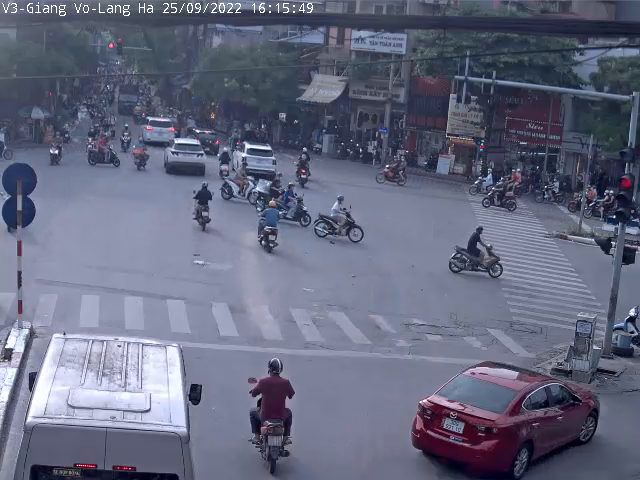người trên xe: (238, 359, 304, 474), (440, 219, 504, 283), (311, 191, 369, 249), (245, 203, 288, 259), (478, 171, 522, 217), (221, 161, 265, 207), (185, 180, 219, 233), (375, 153, 412, 192), (84, 135, 122, 171), (128, 140, 153, 172)
